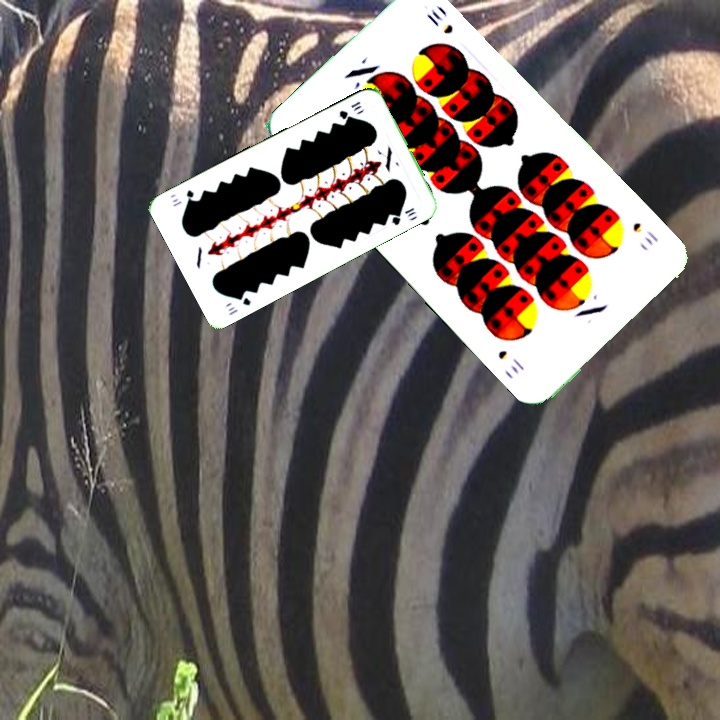G10: (224, 290, 253, 318), (335, 97, 365, 122)
S10: (628, 218, 661, 248)
